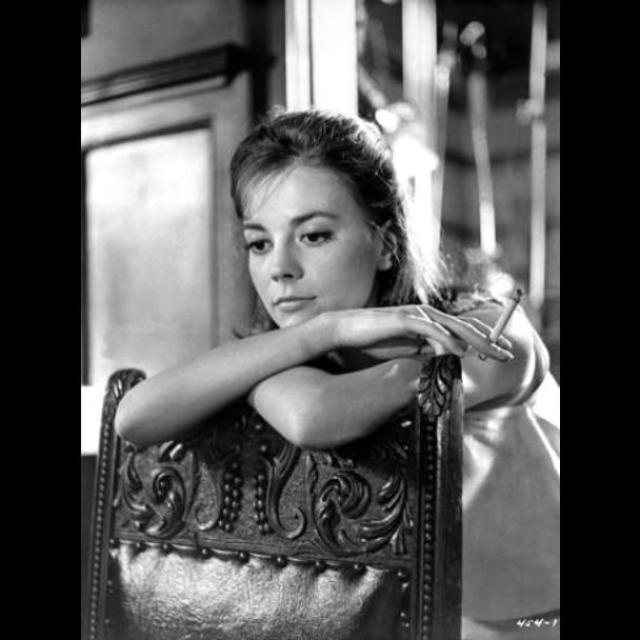rokok: (476, 281, 524, 359)
